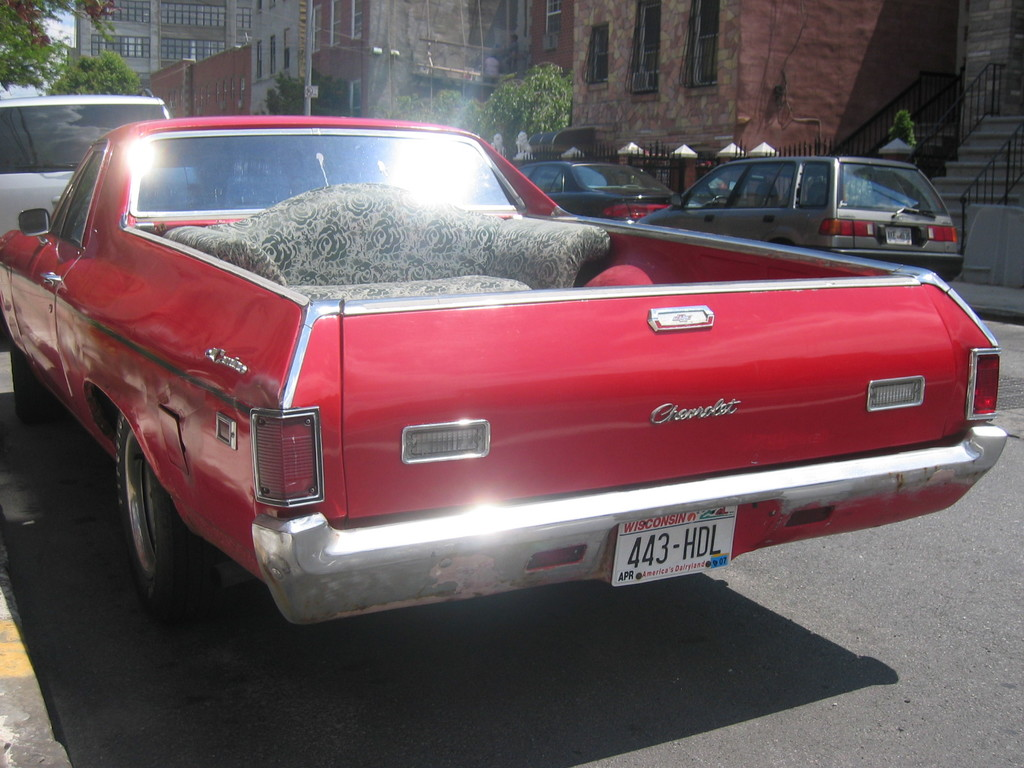Car: (0, 87, 1006, 616)
